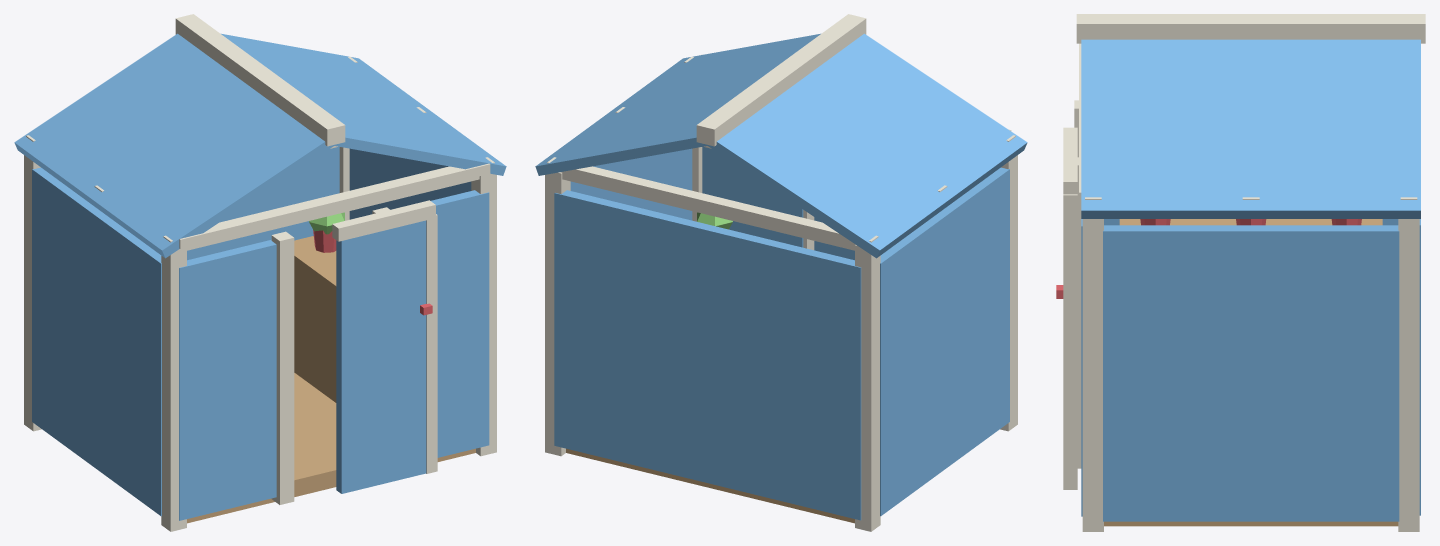
The model's file is lawn-mowing-simulator-kit-small-greenhouse-4ee636ed__27395.glb.
3 views of the same model, side by side, from view 1: azimuth 30°, elevation 25°; view 2: azimuth 150°, elevation 25°; view 3: azimuth 270°, elevation 25° (orthographic). The views are drawn at different scales.
Visible parts, largest first — view 1: small-greenhouse, door/blue, door/cream; view 2: small-greenhouse; view 3: small-greenhouse, door/cream.
Boxes of the visible parts, box(x1,y1,x2,y2) form: small-greenhouse: box(14, 14, 506, 531); door/blue: box(336, 220, 426, 493); door/cream: box(332, 200, 437, 473); small-greenhouse: box(535, 14, 1027, 531); small-greenhouse: box(1074, 14, 1425, 531); door/cream: box(1063, 127, 1077, 489).
Size of the model in its own units: 1.91 by 1.95 by 1.55.
